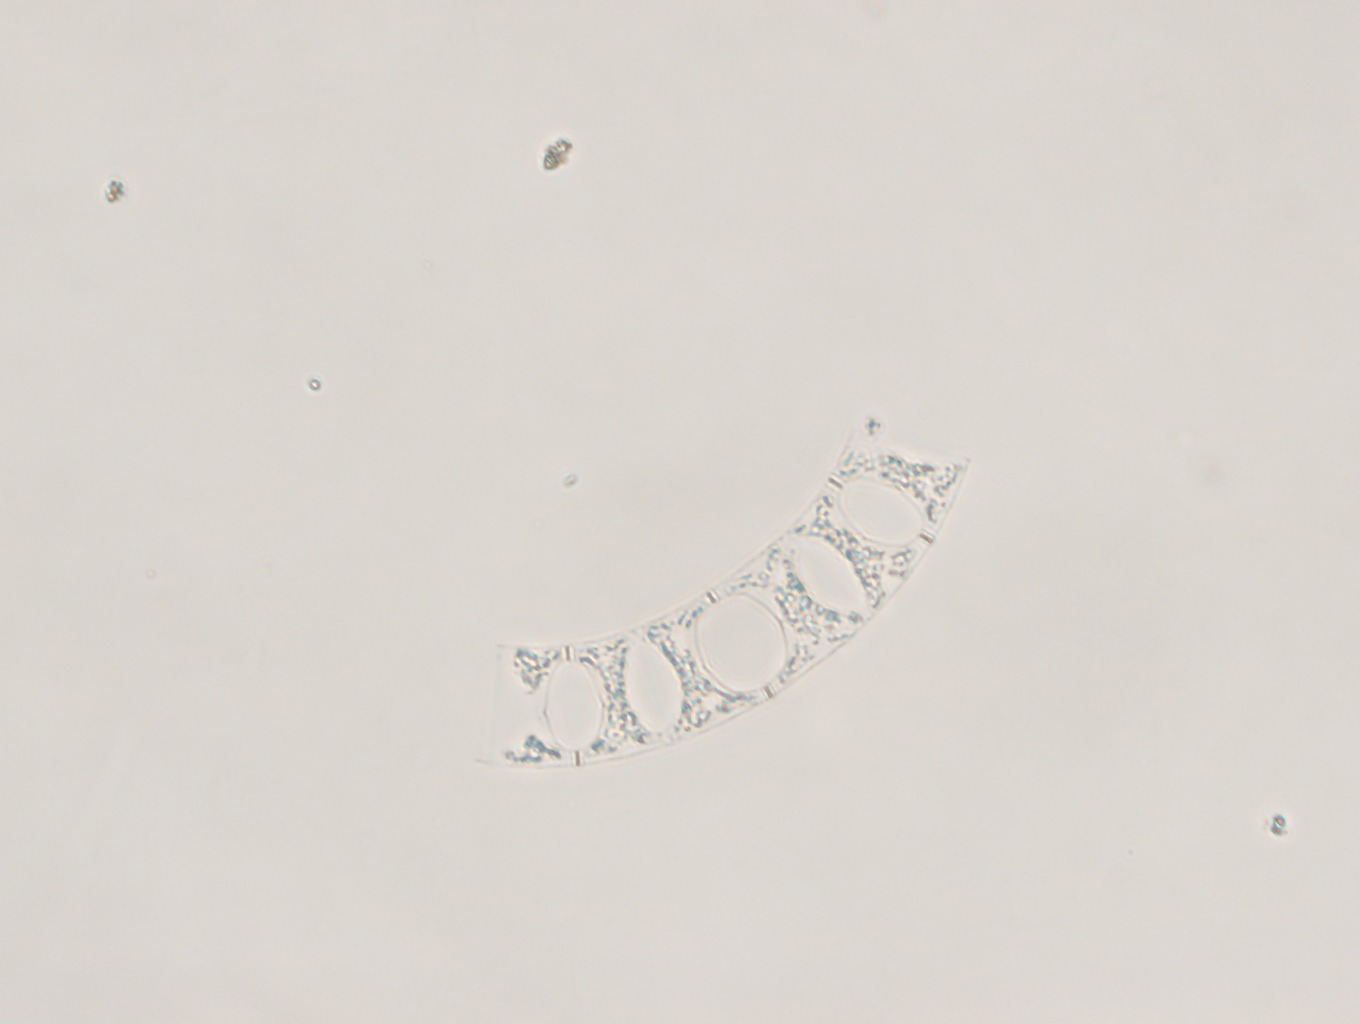eucampia: (491, 432, 982, 772)
